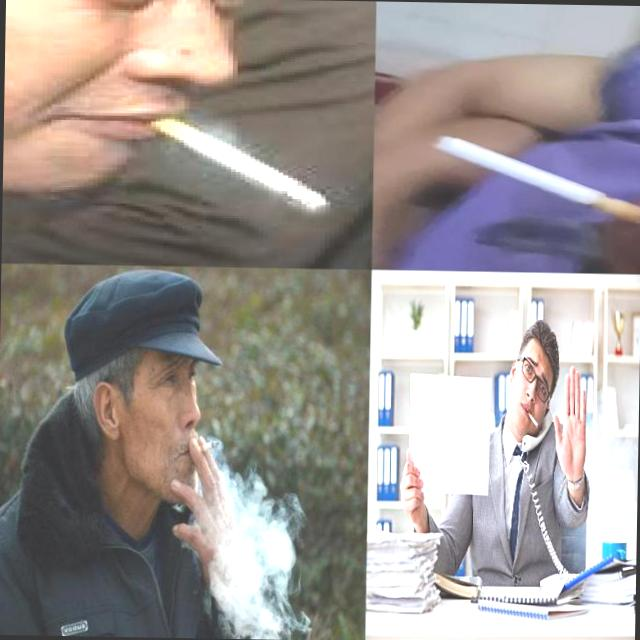smoke: (116, 105, 346, 218), (435, 136, 640, 230), (189, 438, 219, 458), (528, 410, 539, 428)
